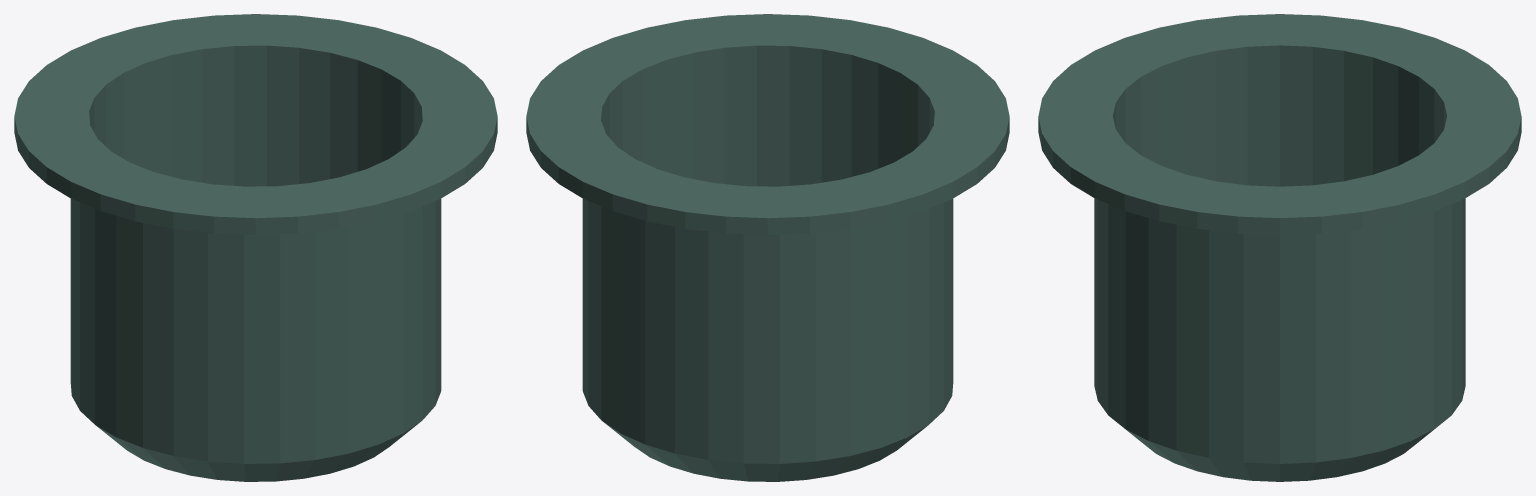
Rendered from SRSTPCR.glb.
The picture shows the model from 3 angles, left to right: view 1: azimuth 30°, elevation 25°; view 2: azimuth 150°, elevation 25°; view 3: azimuth 270°, elevation 25°; orthographic projection.
Parts seen in each view (by area): view 1: 20745172; view 2: 20745172; view 3: 20745172.
Boxes of the visible parts, <box> form: 20745172: <box>14,14,497,481</box>; 20745172: <box>526,14,1009,481</box>; 20745172: <box>1038,14,1521,481</box>.
Size of the model in its own units: 1 by 0.6923 by 1.
